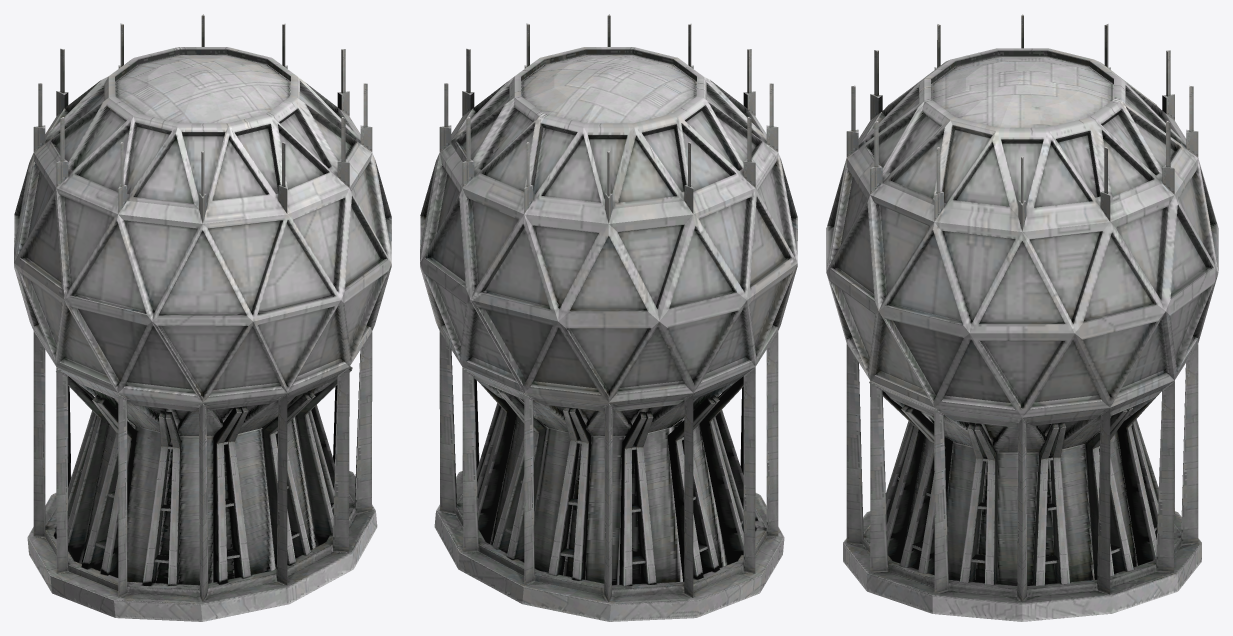
File: star_destroyer_shieldtower_1_l0.fbx
3 views of the same model, side by side, from view 1: azimuth 30°, elevation 25°; view 2: azimuth 150°, elevation 25°; view 3: azimuth 270°, elevation 25° (orthographic). The views are drawn at different scales.
Parts seen in each view (by area): view 1: mesh_node; view 2: mesh_node; view 3: mesh_node.
Part boxes in pixels (bbox=[...]): mesh_node: bbox=[14, 14, 391, 621]; mesh_node: bbox=[420, 14, 797, 621]; mesh_node: bbox=[826, 14, 1218, 621].
Size of the model in its own units: 70.23 by 99.13 by 70.23.
1 material, 1 textured.
